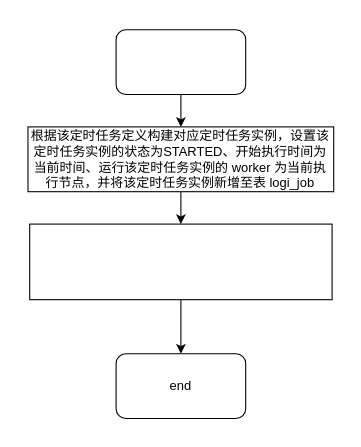
This 361x447 diagram has some shape labels left out. Here are the shapes that lost their labels. From the top down, the centre of each, then its label:
the point at 180,61: start
the point at 180,261: 将该定时任务实例提交至定时任务执行线程池运行，并根据该定时任务实例构建对应任务日志，并将该任务日志新增至表 logi_job_log
